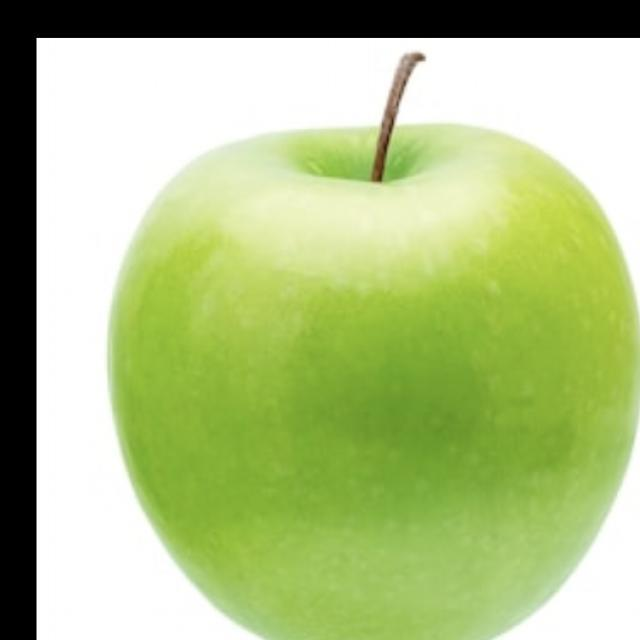Fresh Apple: (104, 110, 640, 640)
